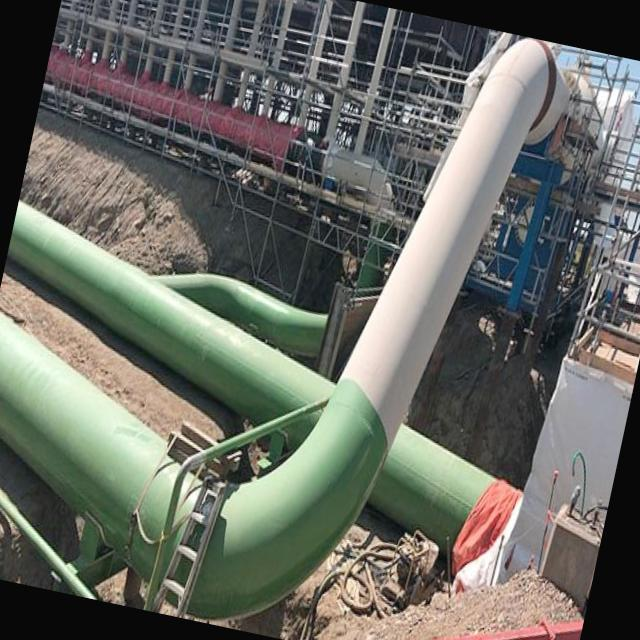gas: (0, 38, 567, 619), (5, 199, 335, 444), (368, 424, 511, 547)
